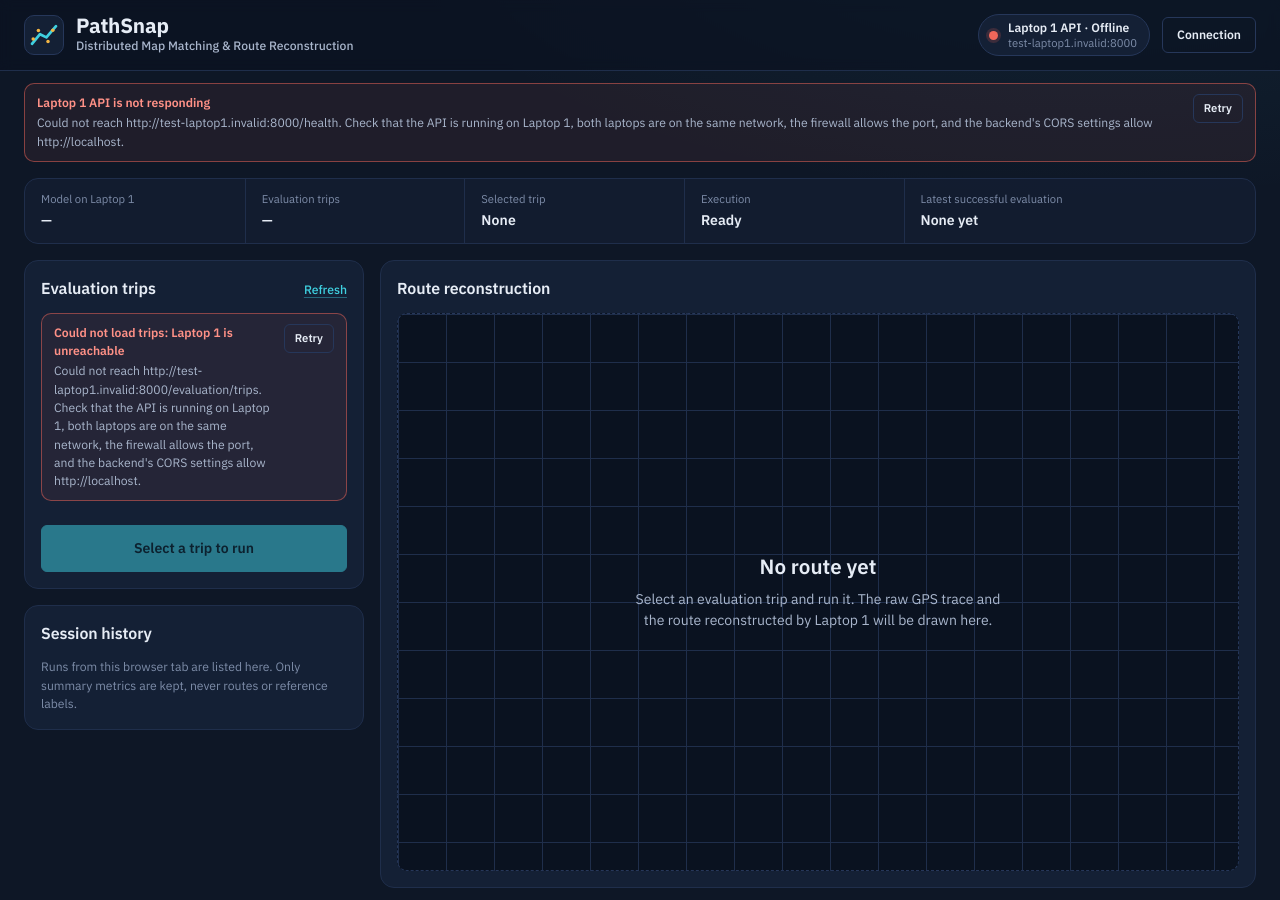
Test: dashboard › reports an offline backend and recovers on retry
This screenshot has width=1280, height=900.
Check: the text "Could not load trips: Laptop 1 is unreachable" is shown, box [54,325,233,358]
Check: the text "Laptop 1 API is not responding" is shown, box [37,95,210,110]
Click the 2nd button "Retry". click: x=309, y=338
box: [284,324,334,353]
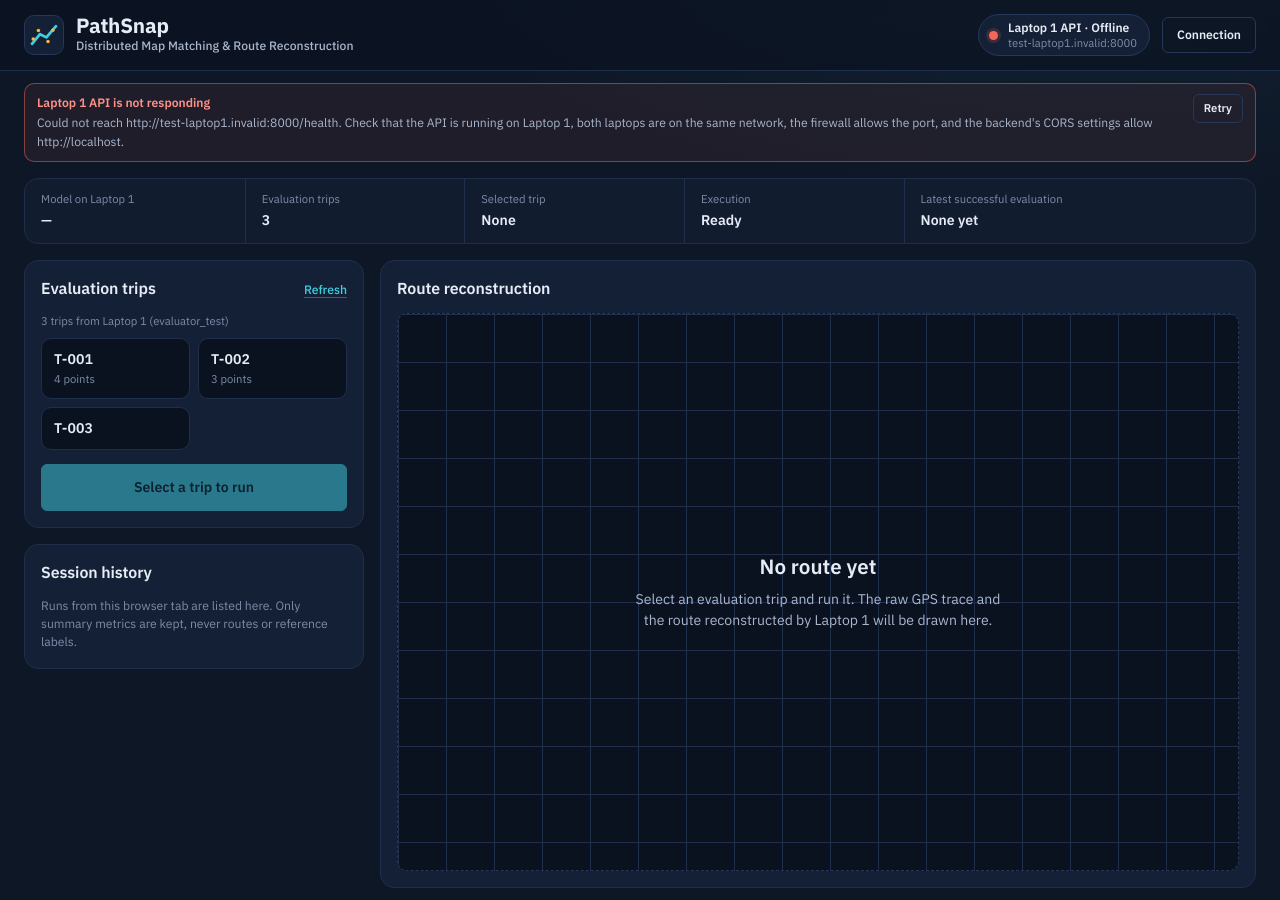
Check: the radio button with test id "trip-T-001" is shown, box [41,338,190,399]
